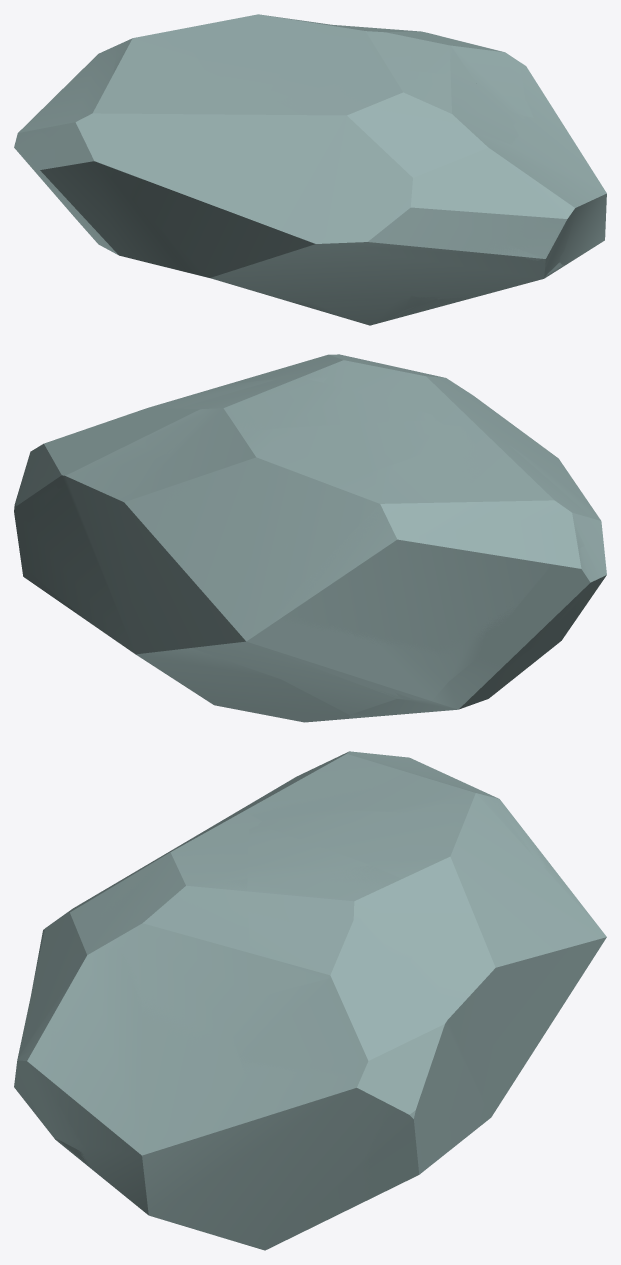
Rendered from breakRock2.fbx.
The picture shows the model from 3 angles, top to bottom: view 1: azimuth 30°, elevation 25°; view 2: azimuth 150°, elevation 25°; view 3: azimuth 270°, elevation 25°; orthographic projection. The views are drawn at different scales.
Parts seen in each view (by area): view 1: rock_frat1, rock_frat1_cell.001, rock_frat1_cell.002, rock_frat1_cell.004, rock_frat1_cell.008, rock_frat1_cell.007, rock_frat1_cell.006, rock_frat1_cell.014, rock_frat1_cell, rock_frat1_cell.010, rock_frat1_cell.013; view 2: rock_frat1, rock_frat1_cell.007, rock_frat1_cell.002, rock_frat1_cell.004, rock_frat1_cell.009, rock_frat1_cell.010, rock_frat1_cell.012, rock_frat1_cell.003, rock_frat1_cell.006, rock_frat1_cell.001, rock_frat1_cell.011, rock_frat1_cell.008 (+1 smaller); view 3: rock_frat1, rock_frat1_cell.001, rock_frat1_cell.006, rock_frat1_cell.002, rock_frat1_cell.004, rock_frat1_cell.005, rock_frat1_cell.007, rock_frat1_cell.011, rock_frat1_cell, rock_frat1_cell.008.
Part boxes in pixels (x1=…): rock_frat1: x1=21, y1=15, x2=606, y2=315; rock_frat1_cell.001: x1=277, y1=70, x2=565, y2=310; rock_frat1_cell.002: x1=266, y1=22, x2=479, y2=100; rock_frat1_cell.004: x1=179, y1=14, x2=311, y2=100; rock_frat1_cell.008: x1=40, y1=79, x2=255, y2=186; rock_frat1_cell.007: x1=111, y1=29, x2=211, y2=82; rock_frat1_cell.006: x1=417, y1=31, x2=533, y2=117; rock_frat1_cell.014: x1=291, y1=189, x2=430, y2=325; rock_frat1_cell: x1=505, y1=110, x2=585, y2=277; rock_frat1_cell.010: x1=14, y1=124, x2=62, y2=202; rock_frat1_cell.013: x1=385, y1=262, x2=564, y2=321; rock_frat1: x1=19, y1=354, x2=606, y2=722; rock_frat1_cell.007: x1=314, y1=452, x2=487, y2=700; rock_frat1_cell.002: x1=120, y1=377, x2=435, y2=453; rock_frat1_cell.004: x1=192, y1=420, x2=443, y2=491; rock_frat1_cell.009: x1=67, y1=604, x2=350, y2=721; rock_frat1_cell.010: x1=478, y1=546, x2=599, y2=666; rock_frat1_cell.012: x1=223, y1=543, x2=399, y2=698; rock_frat1_cell.003: x1=351, y1=644, x2=537, y2=716; rock_frat1_cell.006: x1=24, y1=409, x2=144, y2=480; rock_frat1_cell.001: x1=226, y1=354, x2=445, y2=397; rock_frat1_cell.011: x1=66, y1=444, x2=191, y2=510; rock_frat1_cell.008: x1=430, y1=425, x2=602, y2=550; rock_frat1: x1=14, y1=751, x2=606, y2=1250; rock_frat1_cell.001: x1=18, y1=848, x2=252, y2=1057; rock_frat1_cell.006: x1=230, y1=977, x2=447, y2=1098; rock_frat1_cell.002: x1=247, y1=826, x2=422, y2=997; rock_frat1_cell.004: x1=258, y1=810, x2=539, y2=937; rock_frat1_cell.005: x1=358, y1=1035, x2=447, y2=1201; rock_frat1_cell.007: x1=330, y1=772, x2=552, y2=867; rock_frat1_cell.011: x1=398, y1=936, x2=485, y2=1018; rock_frat1_cell: x1=16, y1=1027, x2=239, y2=1155; rock_frat1_cell.008: x1=240, y1=773, x2=385, y2=820.
Bounding box in the file's own units: 2649 × 1252 × 2287.
